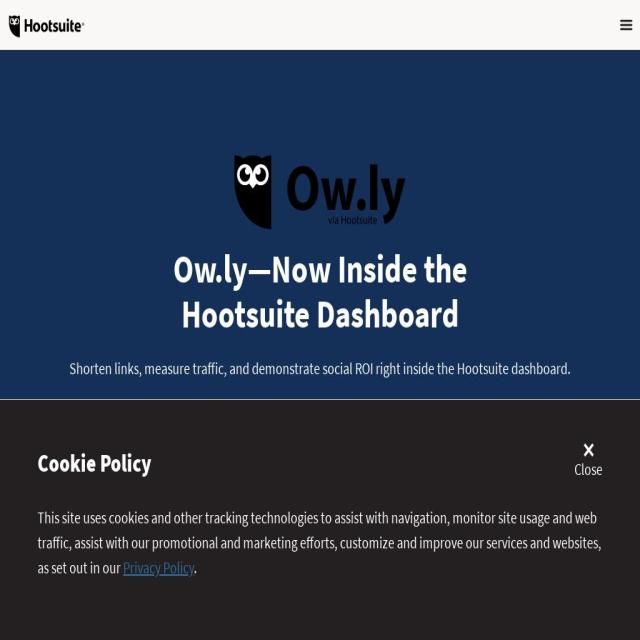button: (209, 401, 336, 444), (356, 401, 431, 444), (8, 13, 86, 39), (574, 443, 602, 482), (620, 16, 632, 33)
heading: (172, 244, 468, 294), (180, 288, 460, 338), (169, 564, 324, 599), (37, 440, 152, 485), (324, 564, 471, 599), (28, 639, 312, 640), (328, 639, 612, 640)
image: (234, 155, 406, 229), (620, 16, 632, 33), (583, 443, 594, 457)
link: (123, 556, 194, 578)
text: (38, 507, 602, 578), (28, 356, 612, 381), (574, 456, 602, 482), (336, 409, 356, 431), (194, 556, 197, 578)
